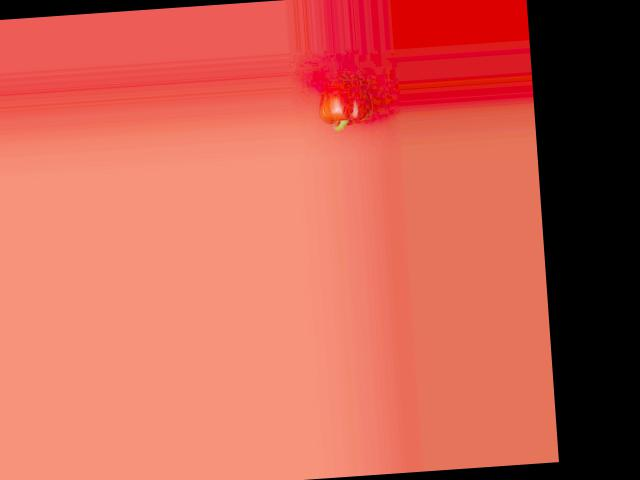bell_pepper: (319, 70, 375, 133)
